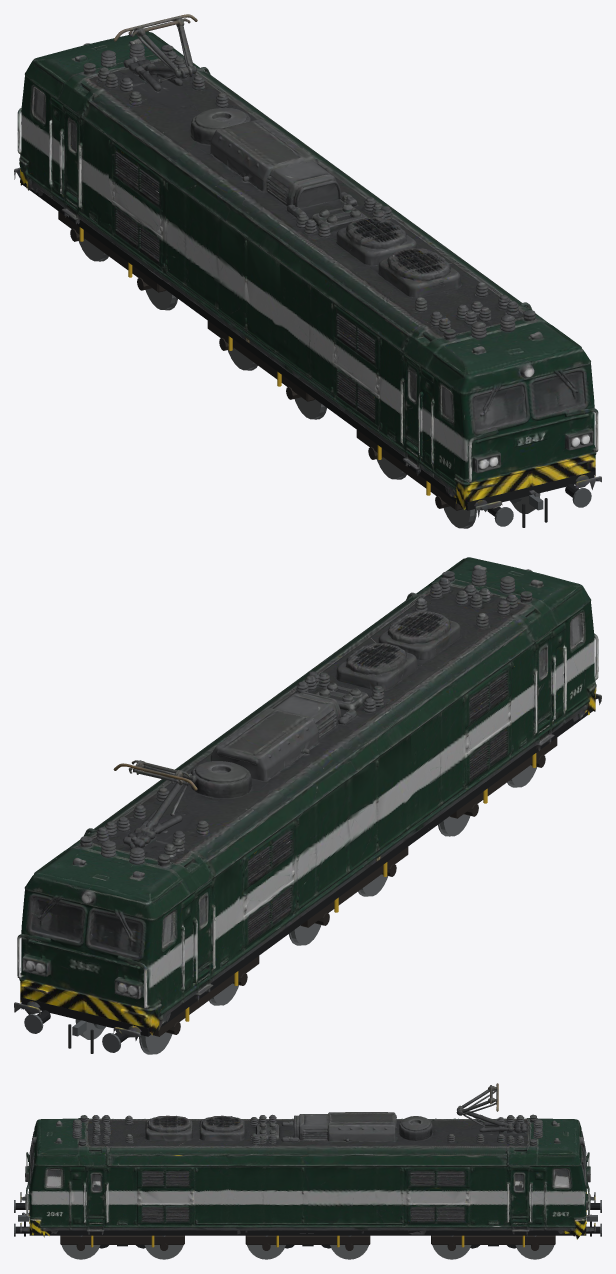
File: srt.glb
3 renders of one model, top to bottom at view 1: azimuth 30°, elevation 25°; view 2: azimuth 150°, elevation 25°; view 3: azimuth 270°, elevation 25°, orthographic. The views are drawn at different scales.
Visible parts, largest first — view 1: srt_kori, srt_frame, Bogie_M_side-1, Bogie_R_side-1, Bogie_F_side-1; view 2: srt_kori, srt_frame, Bogie_M_side-1, Bogie_F_side-1, Bogie_R_side-1; view 3: srt_kori, srt_frame, Bogie_M_side1, Bogie_F_side1, Bogie_R_side1, Wheel_F1_wR, Wheel_R2_wR, Wheel_M1_wR, Wheel_M2_wR, Wheel_F2_wR, Wheel_R1_wR.
Part boxes in pixels (left/top/right/bottom): srt_kori: left=14, top=14, right=601, bottom=517; srt_frame: left=22, top=183, right=594, bottom=510; Bogie_M_side-1: left=207, top=321, right=314, bottom=401; Bogie_R_side-1: left=58, top=211, right=165, bottom=292; Bogie_F_side-1: left=356, top=430, right=462, bottom=510; srt_kori: left=14, top=557, right=601, bottom=1043; srt_frame: left=21, top=709, right=592, bottom=1036; Bogie_M_side-1: left=300, top=847, right=408, bottom=927; Bogie_F_side-1: left=450, top=738, right=557, bottom=818; Bogie_R_side-1: left=152, top=956, right=259, bottom=1036; srt_kori: left=20, top=1083, right=595, bottom=1239; srt_frame: left=29, top=1214, right=586, bottom=1235; Bogie_M_side1: left=245, top=1235, right=370, bottom=1244; Bogie_F_side1: left=60, top=1235, right=184, bottom=1244; Bogie_R_side1: left=431, top=1235, right=555, bottom=1244; Wheel_F1_wR: left=62, top=1245, right=99, bottom=1259; Wheel_R2_wR: left=516, top=1245, right=553, bottom=1259; Wheel_M1_wR: left=247, top=1245, right=284, bottom=1259; Wheel_M2_wR: left=331, top=1245, right=368, bottom=1259; Wheel_F2_wR: left=145, top=1245, right=182, bottom=1259; Wheel_R1_wR: left=433, top=1245, right=470, bottom=1259.
Size of the model in its own units: 3.1 by 5.45 by 18.39.
Materials: 7 (1 with a texture image).
